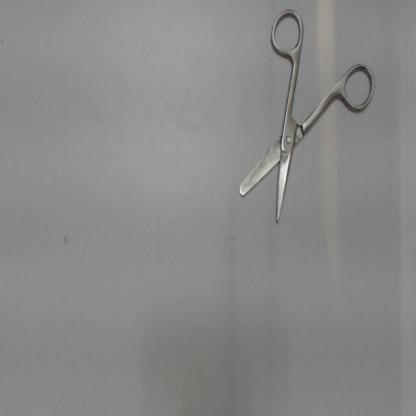Dressing Scissors: (228, 1, 384, 236)
